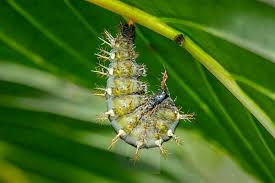Caterpillar: (92, 23, 185, 153)
